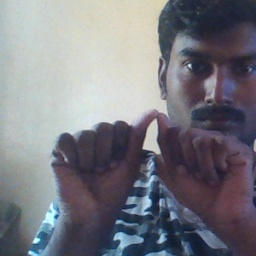A: (69, 108, 235, 214)
